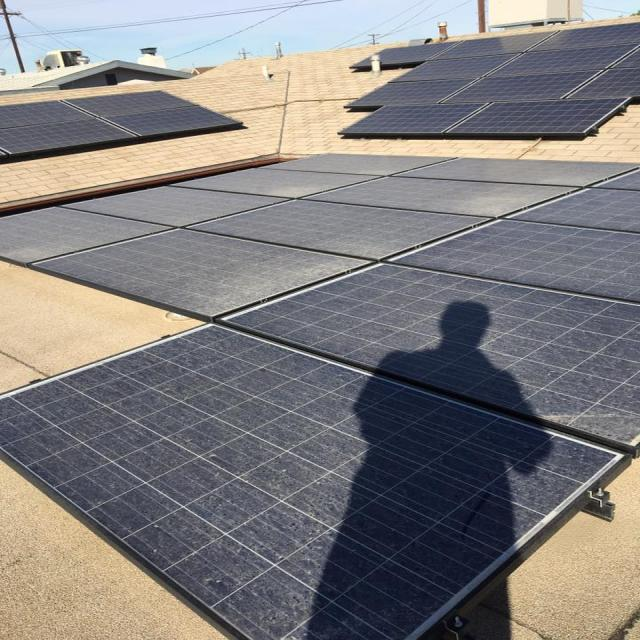dust-solar-panel: (0, 152, 639, 640)
